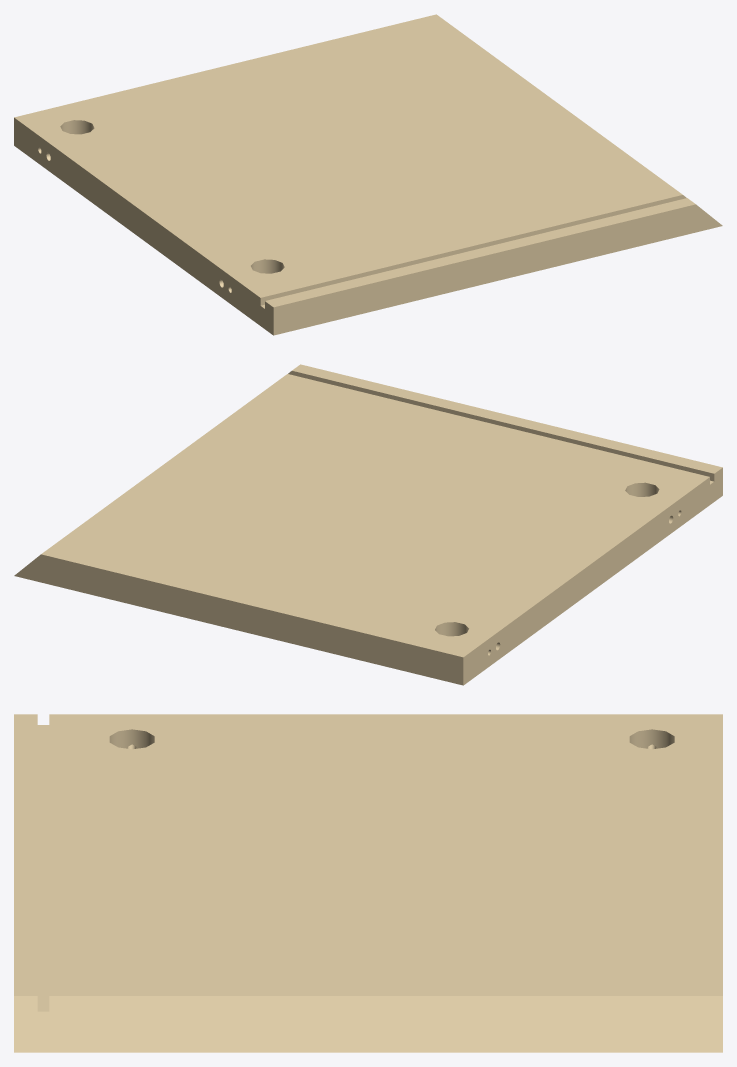
The model's file is side_right.obj.
3 renders of one model, top to bottom at view 1: azimuth 30°, elevation 25°; view 2: azimuth 150°, elevation 25°; view 3: azimuth 270°, elevation 25°, orthographic. The views are drawn at different scales.
Visible parts, largest first — view 1: 1; view 2: 1; view 3: 1.
Part boxes in pixels (bbox=[...]): 1: bbox=[14, 14, 722, 335]; 1: bbox=[14, 364, 722, 685]; 1: bbox=[14, 714, 722, 1052].
Bounding box in the file's own units: 300 × 18 × 300.
